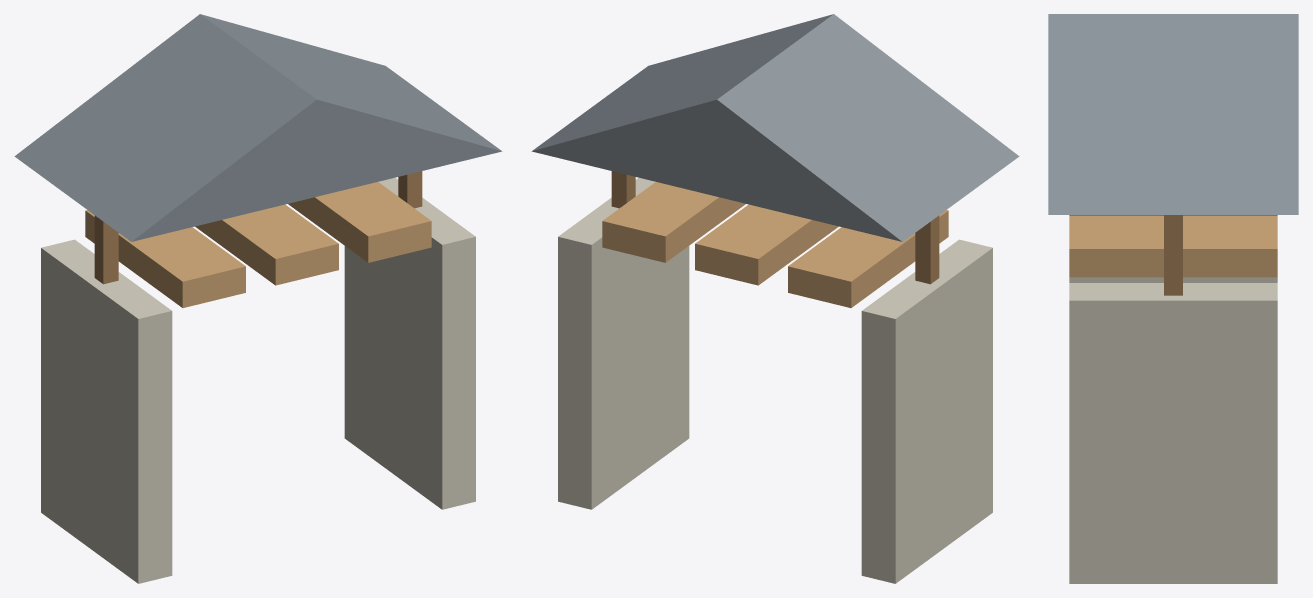
The model's file is murder-hole-gallery.glb.
3 views of the same model, side by side, from view 1: azimuth 30°, elevation 25°; view 2: azimuth 150°, elevation 25°; view 3: azimuth 270°, elevation 25° (orthographic). The views are drawn at different scales.
Visible parts, largest first — view 1: murder-hole-gallery; view 2: murder-hole-gallery; view 3: murder-hole-gallery.
Part boxes in pixels (box(x1,y1,x2,y2)): murder-hole-gallery: box(14, 14, 502, 583); murder-hole-gallery: box(531, 14, 1019, 583); murder-hole-gallery: box(1048, 14, 1298, 583).
Size of the model in its own units: 4.4 by 5.1 by 2.4.
